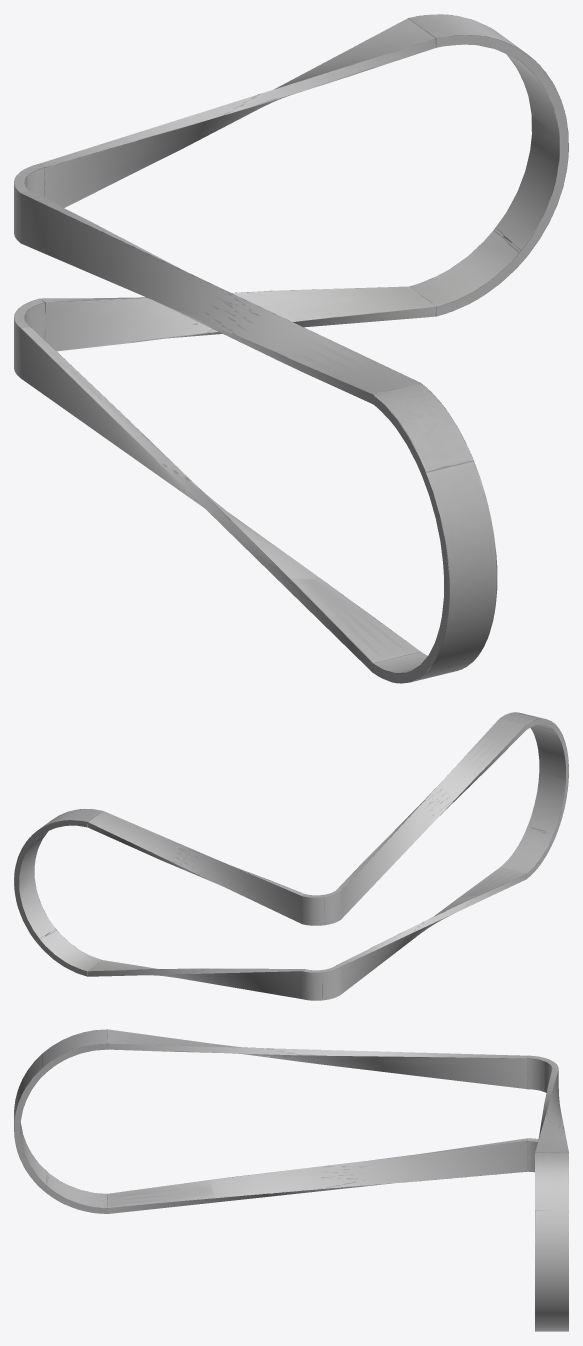
3 views of the same model, one above another, from view 1: azimuth 30°, elevation 25°; view 2: azimuth 150°, elevation 25°; view 3: azimuth 270°, elevation 25° (orthographic). The views are drawn at different scales.
Visible parts, largest first — view 1: Correa.001_Mesh.1383; view 2: Correa.001_Mesh.1383; view 3: Correa.001_Mesh.1383.
Boxes of the visible parts, x1,y1,x2,y2 form: Correa.001_Mesh.1383: (14,14,568,683); Correa.001_Mesh.1383: (14,712,568,1000); Correa.001_Mesh.1383: (14,1029,568,1331).
Bounding box in the file's own units: 0.3168 × 0.1519 × 0.4488.
1 material, 1 textured.
